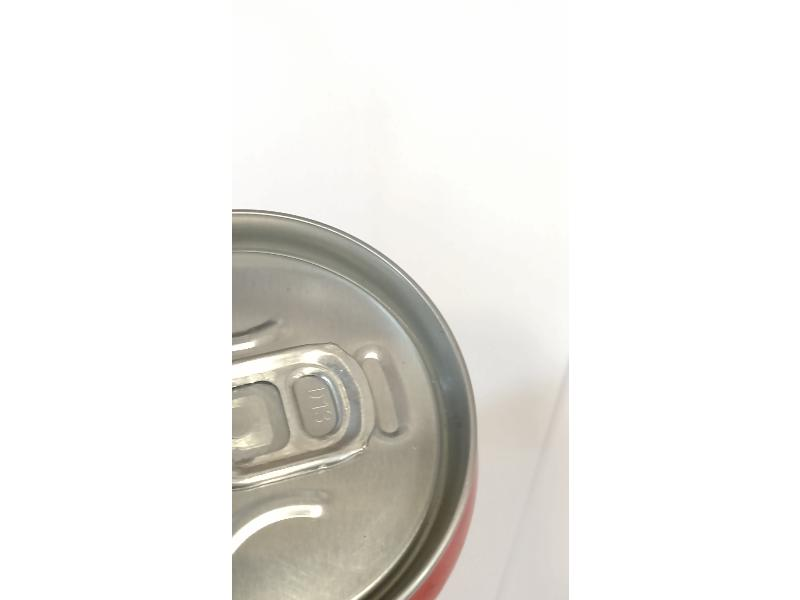can: (231, 197, 488, 597), (488, 595, 496, 597)
